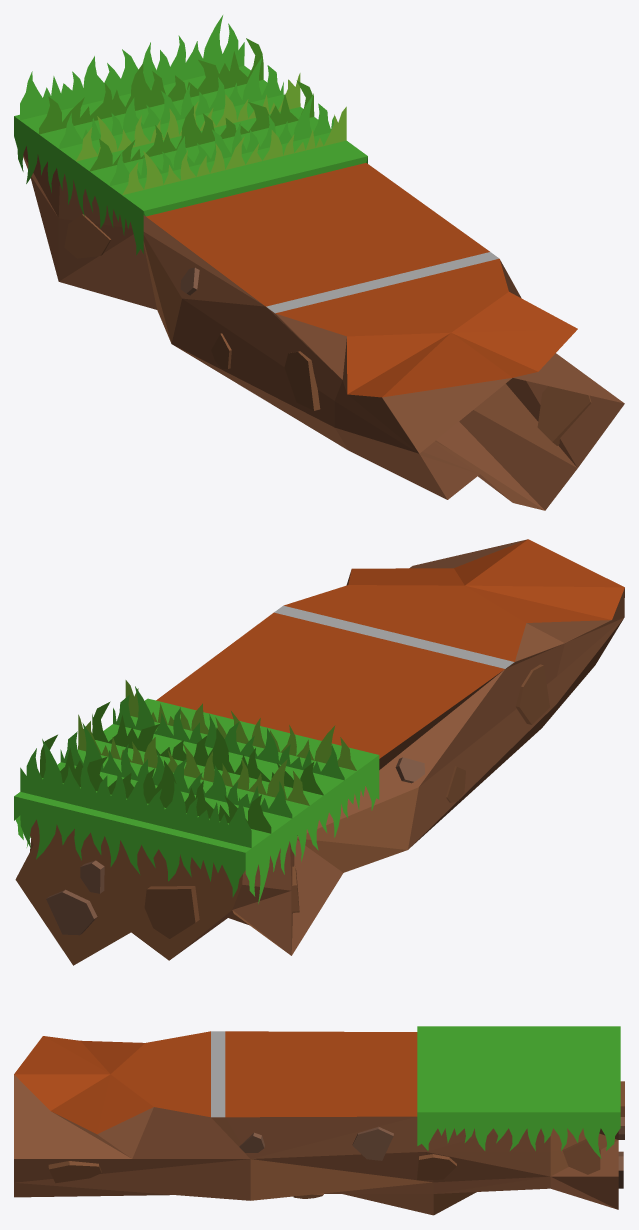
File: platform_small_01.fbx
The picture shows the model from 3 angles, top to bottom: view 1: azimuth 30°, elevation 25°; view 2: azimuth 150°, elevation 25°; view 3: azimuth 270°, elevation 25°; orthographic projection. The views are drawn at different scales.
Parts seen in each view (by area): view 1: platform_small_01, platform_small_grass_01; view 2: platform_small_01, platform_small_grass_01; view 3: platform_small_01, platform_small_grass_01.
Boxes of the visible parts, <box> form: platform_small_01: <box>14,65,624,510</box>; platform_small_grass_01: <box>14,15,367,255</box>; platform_small_01: <box>14,539,624,965</box>; platform_small_grass_01: <box>14,680,379,903</box>; platform_small_01: <box>14,1026,624,1215</box>; platform_small_grass_01: <box>417,1112,620,1158</box>.
Size of the model in its own units: 322 by 308 by 894.
